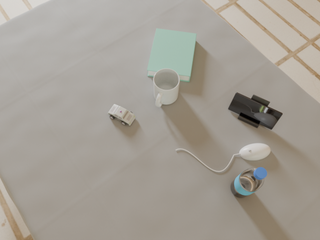book: (147, 29, 197, 82)
bottle: (231, 167, 267, 198)
cup: (153, 68, 180, 107)
mouse: (239, 143, 270, 160)
phone: (228, 93, 282, 130)
toy_car: (108, 104, 136, 125)
